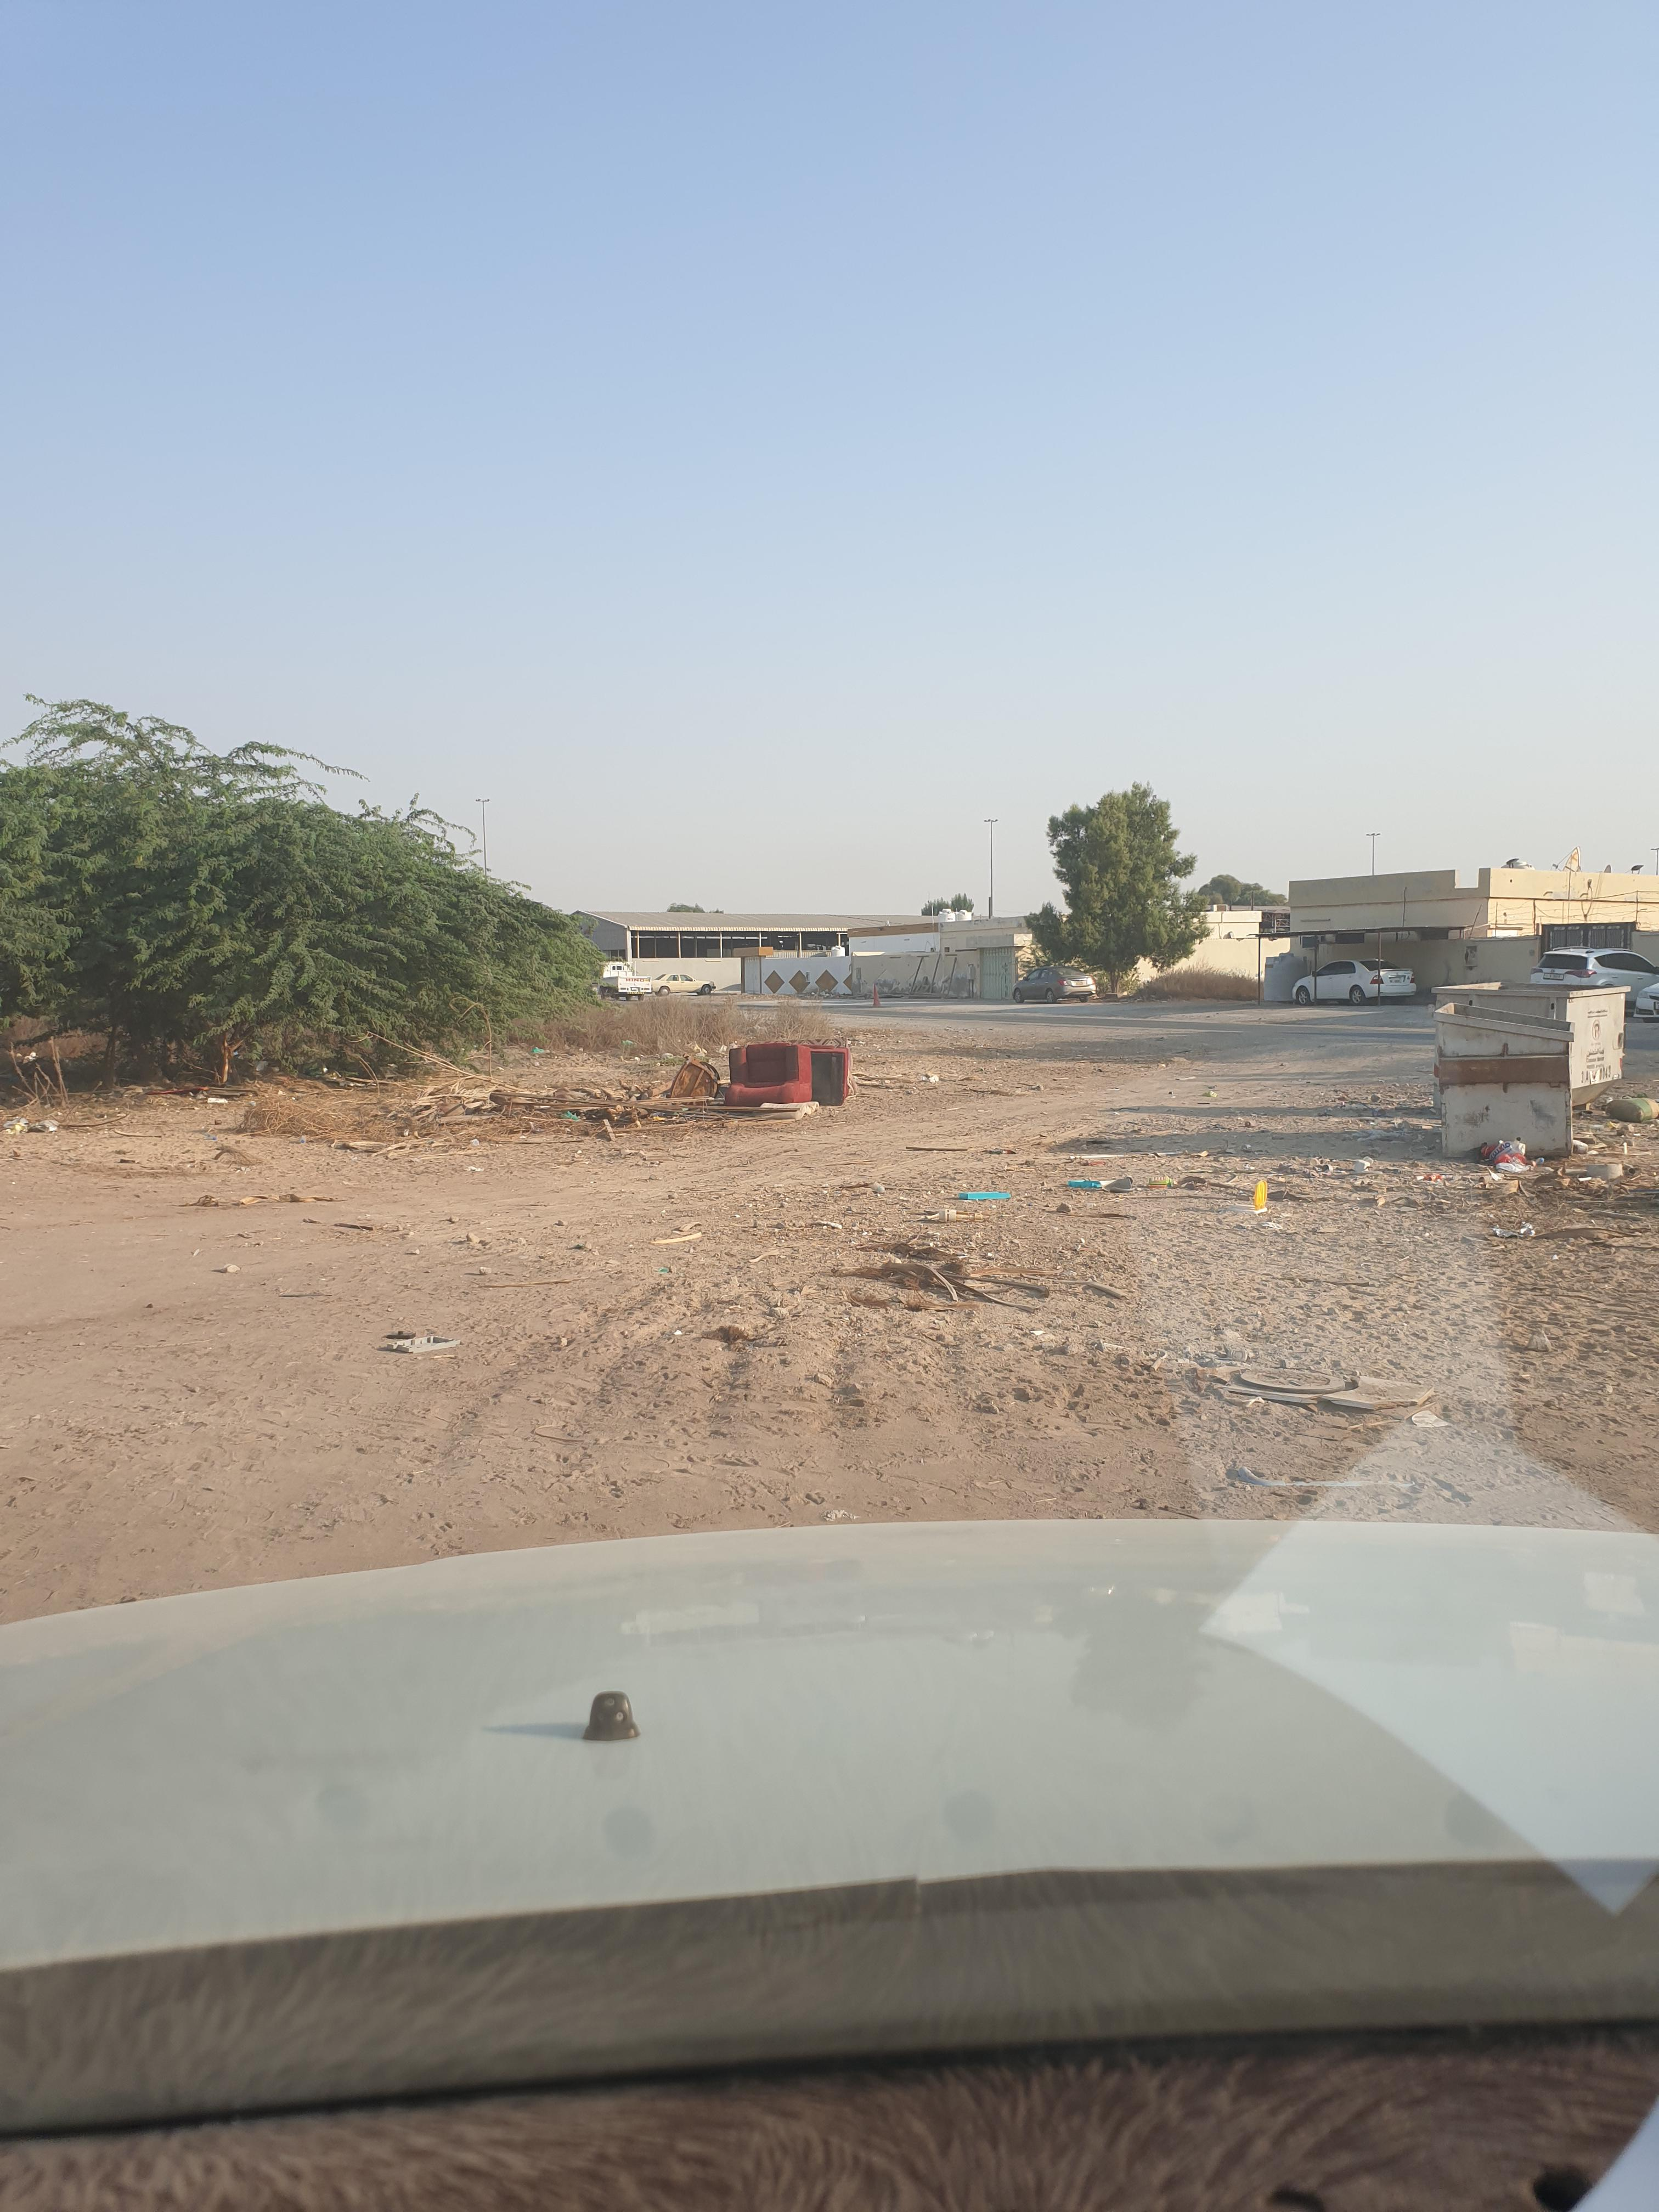fallen_trees: (239, 1082, 704, 1163), (861, 1223, 1046, 1352)
uncollected_waste: (706, 1038, 884, 1116)
